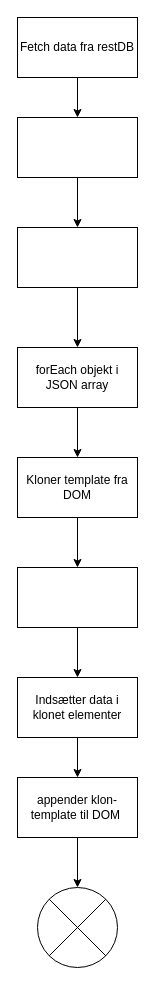
Image size: 155x985. Some labels were removed from this diagram. Here are the shapes that lost their labels. From the top down, the centre of each, then its label:
At point 77,147: "Fetch api-key fra restDB".
At point 77,257: "Fetch respons".
At point 77,597: "indsætter id som urlparametre".
